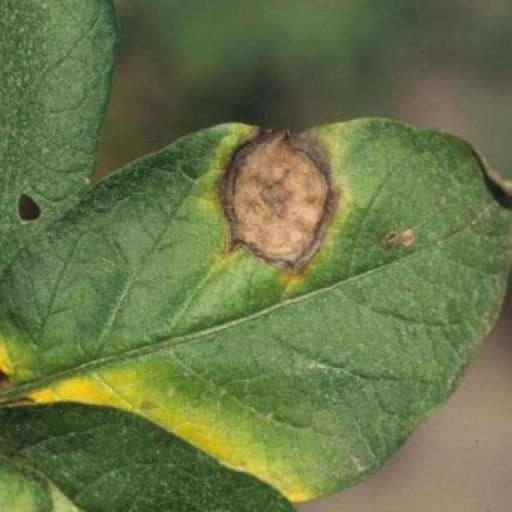disease_tomato: (0, 120, 512, 498)
